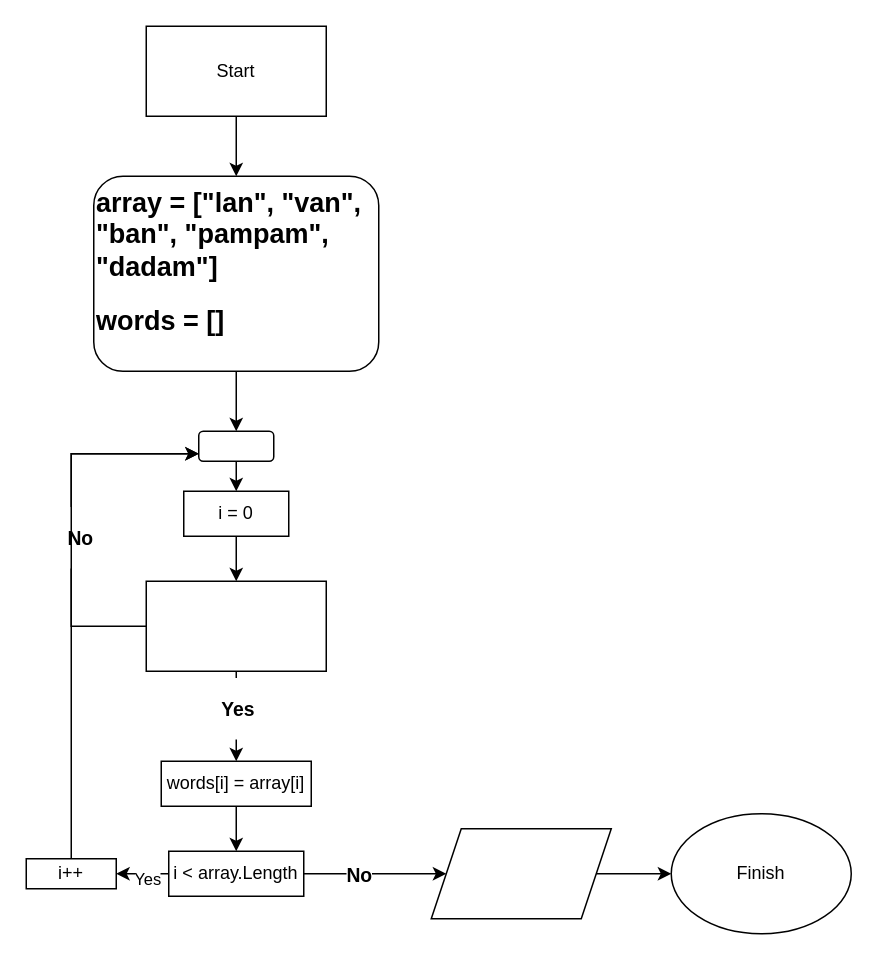
The diagram is 878 pixels wide and 960 high, and some of its shapes have lost their labels. Here are the shapes that lost their labels. From the top down, the box of each, then its label:
(197, 430, 274, 461): for
(145, 580, 326, 671): array[i] <= 3
(430, 827, 611, 919): print[array] print[words]
